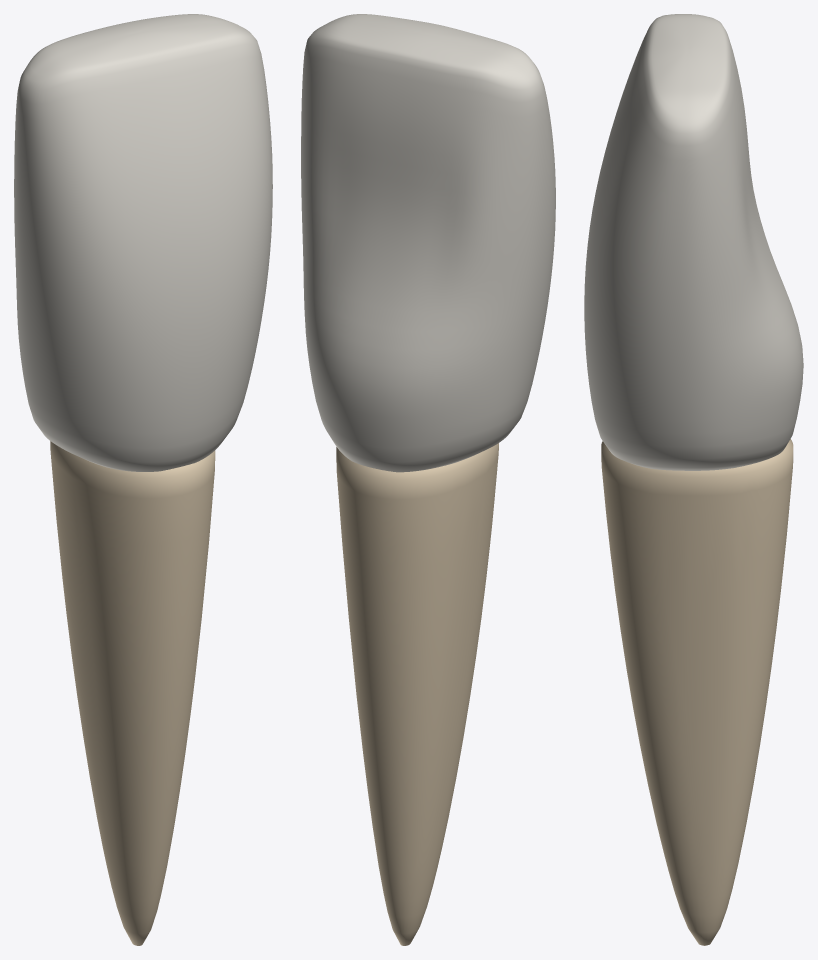
Rendered from incisivo_inf.glb.
3 renders of one model, left to right at view 1: azimuth 30°, elevation 25°; view 2: azimuth 150°, elevation 25°; view 3: azimuth 270°, elevation 25°, orthographic. The views are drawn at different scales.
Parts seen in each view (by area): view 1: Corona, Raices; view 2: Corona, Raices; view 3: Corona, Raices.
Boxes of the visible parts, x1,y1,x2,y2 form: Corona: [14, 14, 272, 471]; Raices: [50, 441, 215, 945]; Corona: [301, 14, 555, 472]; Raices: [336, 443, 498, 945]; Corona: [584, 14, 803, 470]; Raices: [601, 439, 793, 945].
Size of the model in its own units: 0.00546 by 0.0201 by 0.00449.
